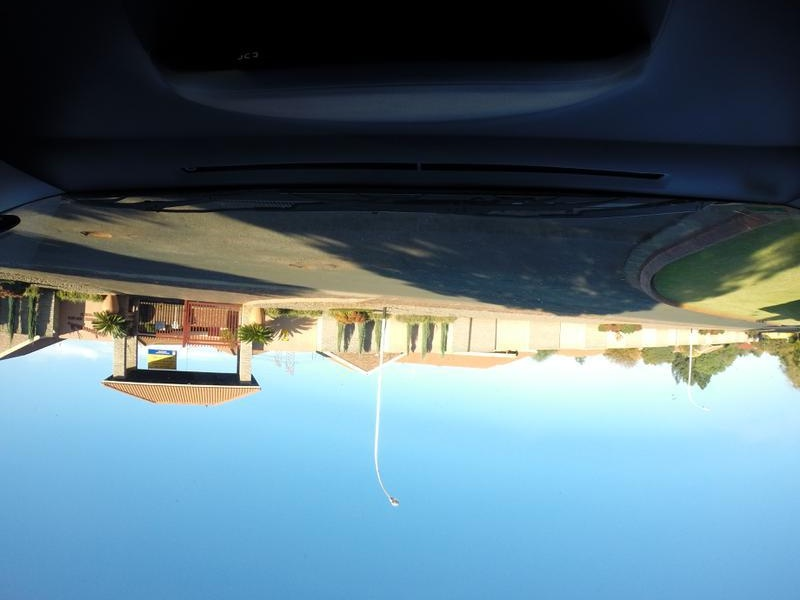pothole: (66, 211, 135, 246), (284, 254, 348, 276)
